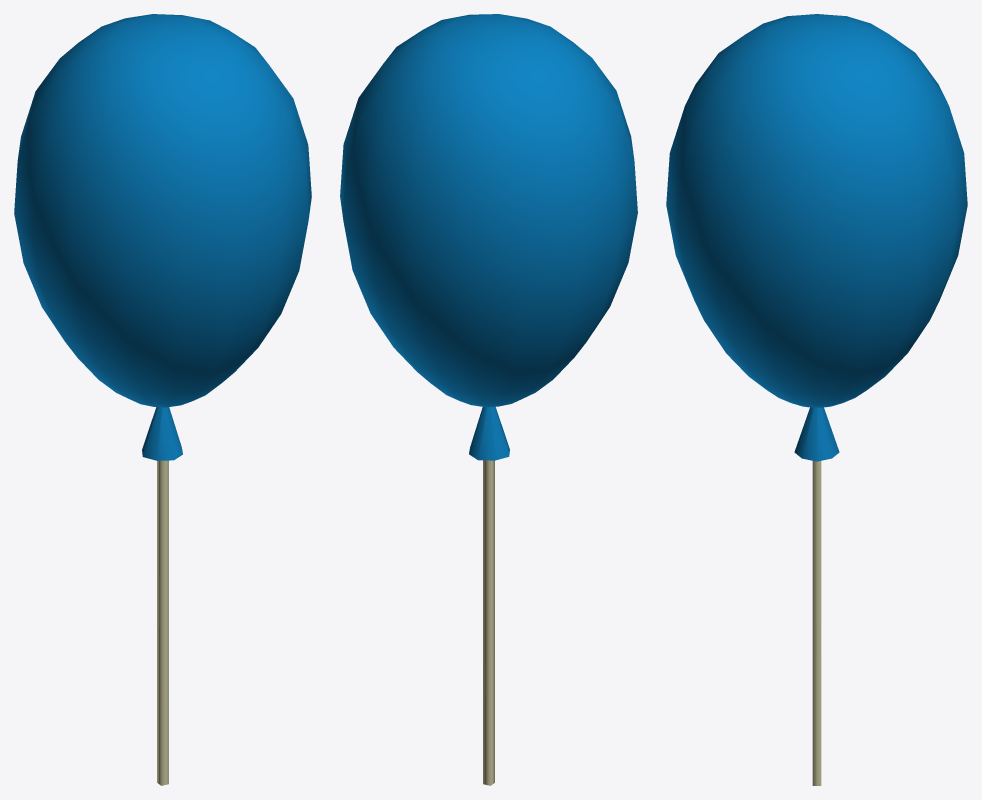
Rendered from Balloon_01_Blue.FBX.
3 renders of one model, left to right at view 1: azimuth 30°, elevation 25°; view 2: azimuth 150°, elevation 25°; view 3: azimuth 270°, elevation 25°, orthographic.
Parts seen in each view (by area): view 1: Balloon_01_Blue; view 2: Balloon_01_Blue; view 3: Balloon_01_Blue.
Boxes of the visible parts, bbox=[...] form: Balloon_01_Blue: bbox=[14, 14, 311, 785]; Balloon_01_Blue: bbox=[340, 14, 637, 785]; Balloon_01_Blue: bbox=[666, 14, 967, 785].
Size of the model in its own units: 7.8 by 21.56 by 7.8.
